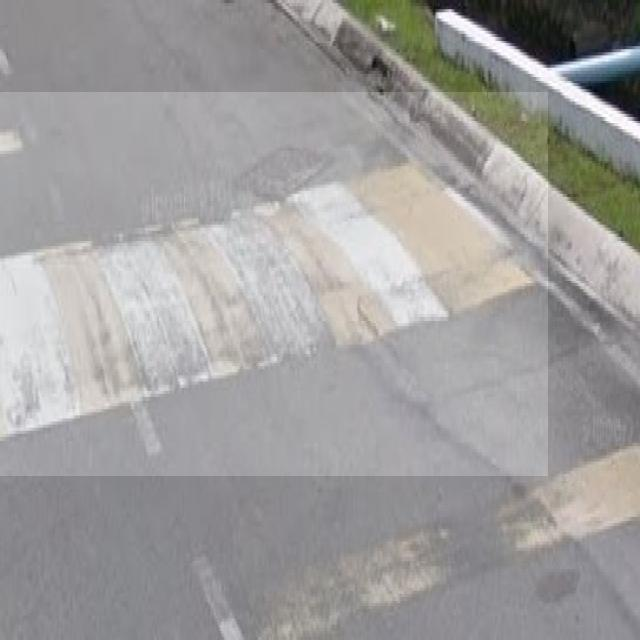speed-bump: (0, 92, 548, 476)
